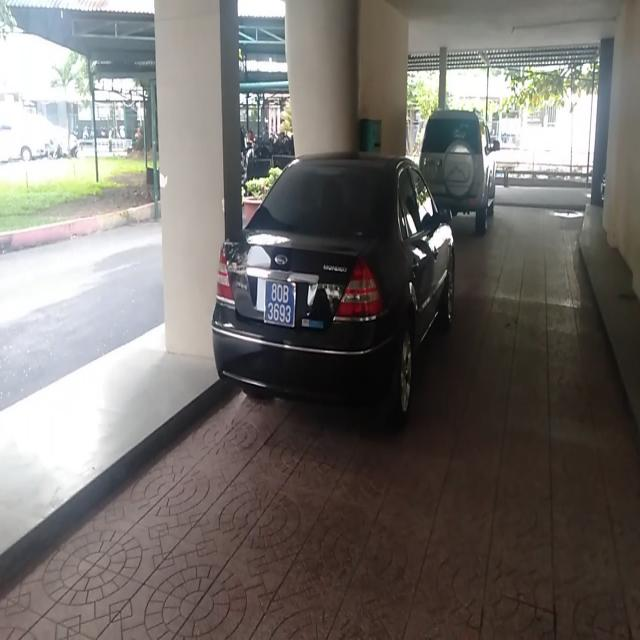bien_xanh: (264, 274, 295, 334)
